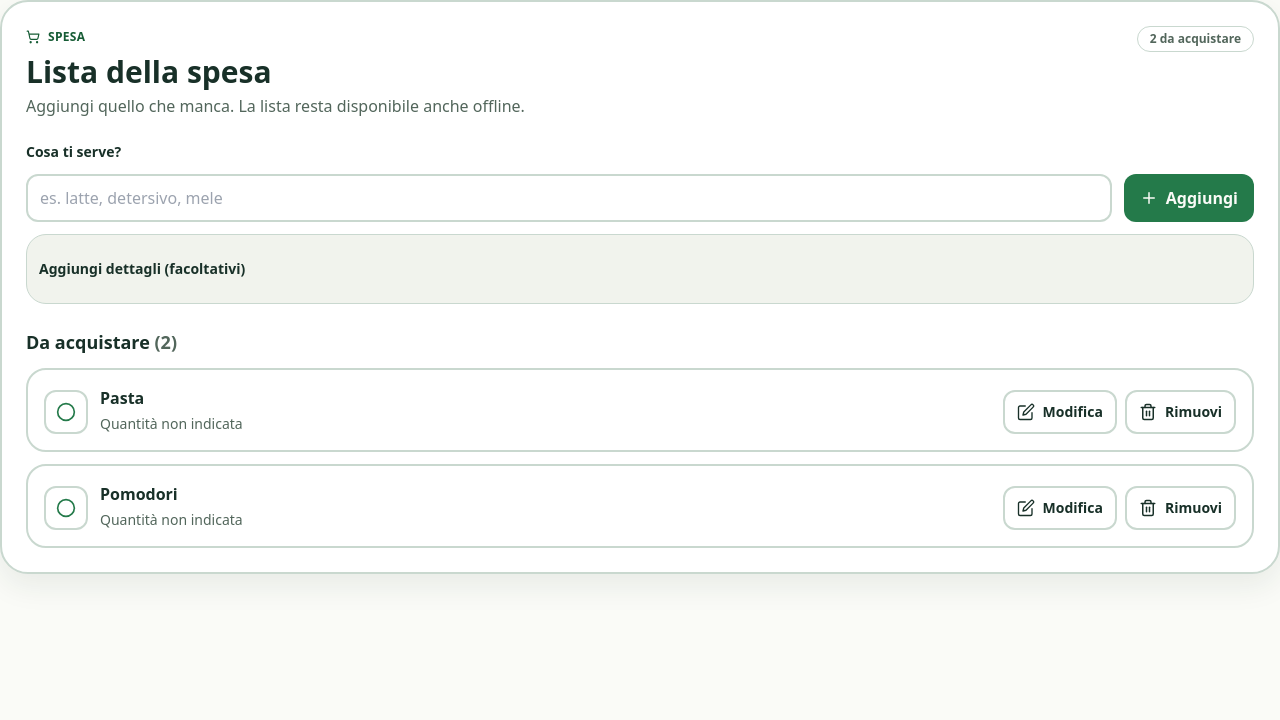
ShoppingListPanel › ShoppingListPanel — editor dettagli aperto al click su "Modifica" › apre l'editor solo per la riga su cui si clicca "Modifica"
Expected: the field labelled "Nome" is not shown
Click the button with aria-label "Modifica Pasta" at (1060, 412), box [1003, 390, 1117, 434]
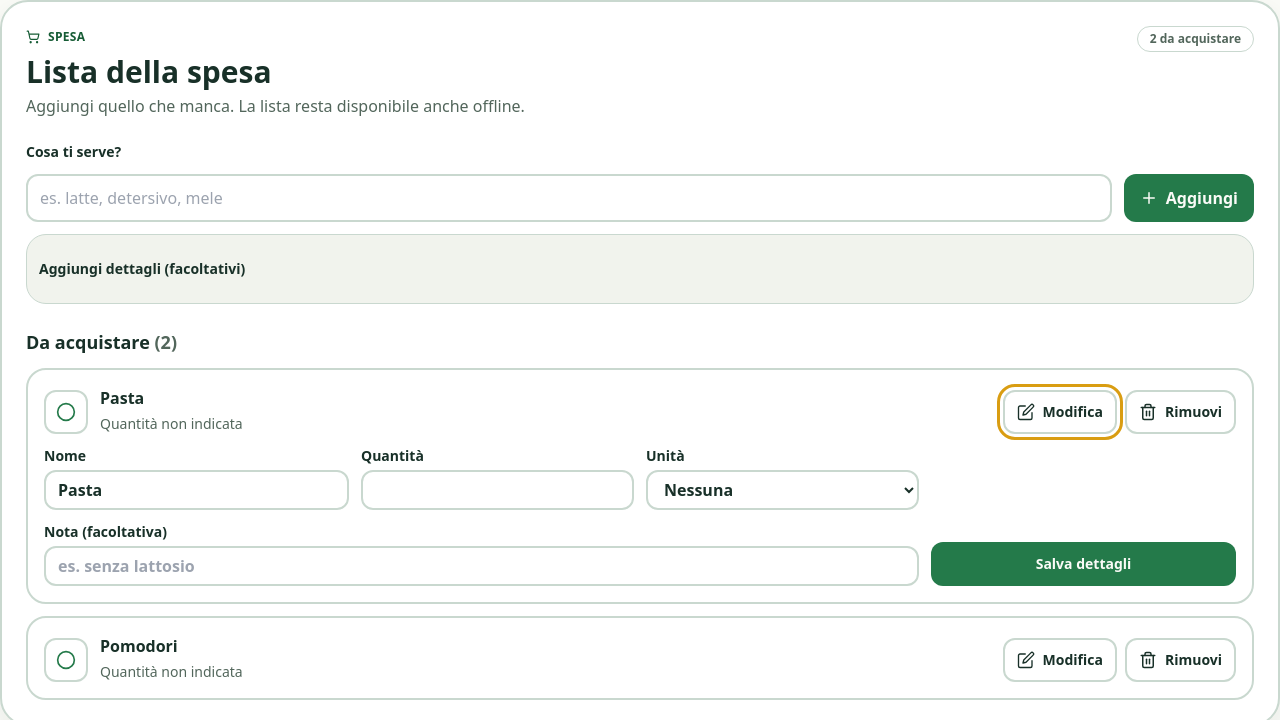
Now the field labelled "Nome" is shown, box [44, 470, 349, 510]
Now the number field labelled "Quantità" is shown, box [361, 470, 634, 510]
Now the dropdown labelled "Unità" is shown, box [646, 470, 919, 510]
Click the button with aria-label "Modifica Pomodori" at (1060, 660), box [1003, 638, 1117, 682]
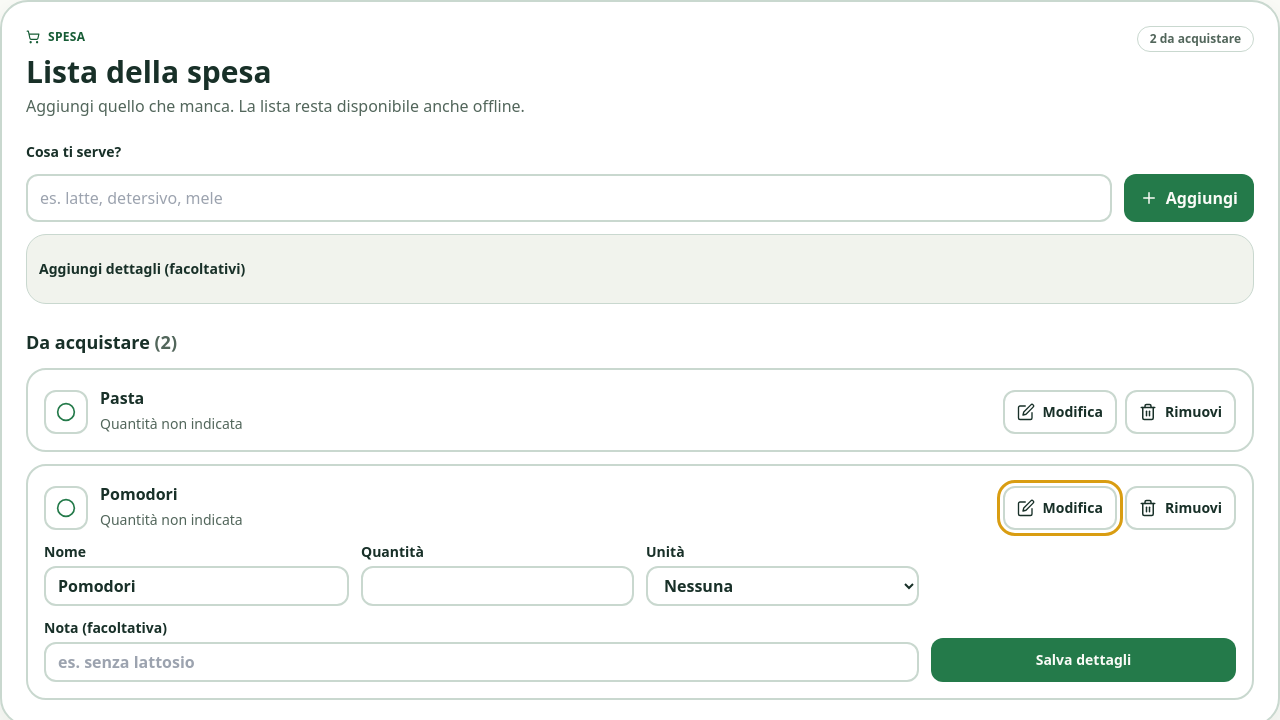
Now the button "Salva dettagli" is shown, box [931, 638, 1236, 682]
Now the field labelled "Nome" holds "Pomodori", box [44, 566, 349, 606]
